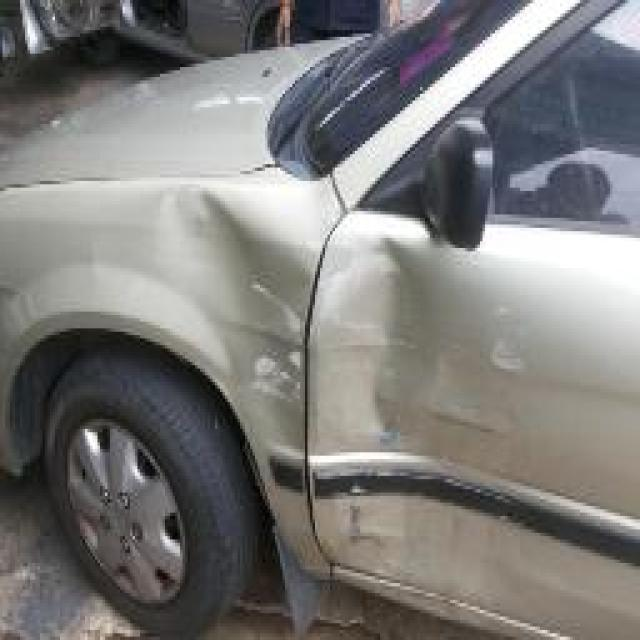Door: (310, 194, 640, 633), (68, 171, 310, 640)
